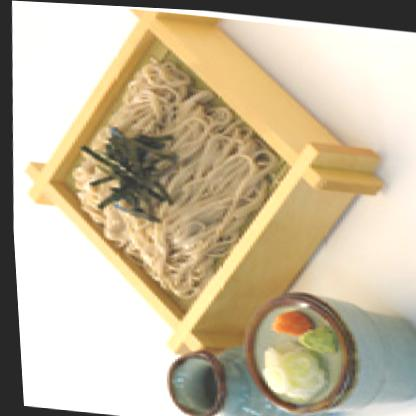memil soba: (46, 47, 294, 310)
